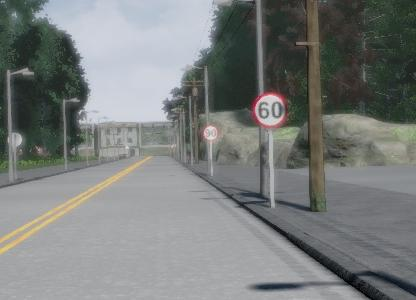Speed_60: (250, 91, 291, 130)
